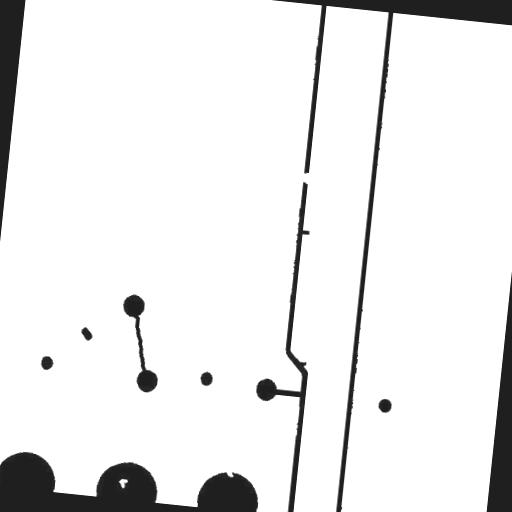copper: (72, 318, 101, 349)
mousebite: (217, 462, 242, 485)
open: (291, 163, 320, 192)
pin-hole: (110, 470, 136, 496)
short: (118, 306, 160, 382), (264, 380, 310, 406)
spur: (290, 352, 315, 376), (292, 222, 318, 242)
